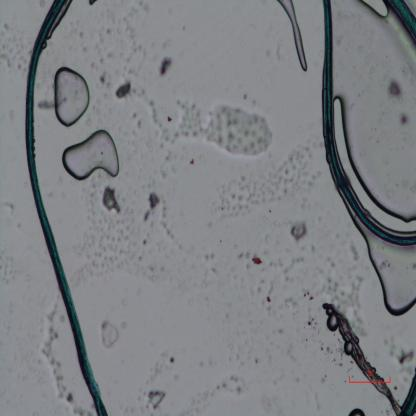Air bubble: (61, 130, 124, 181), (275, 1, 311, 72), (54, 64, 91, 128), (401, 385, 416, 415)
Background material: (138, 89, 274, 153), (73, 196, 171, 281), (220, 141, 313, 224), (37, 308, 80, 412), (318, 266, 362, 326), (96, 10, 116, 87), (304, 283, 326, 347), (0, 27, 28, 75), (384, 334, 415, 374), (0, 249, 30, 287), (250, 280, 282, 314), (145, 350, 178, 378), (100, 184, 123, 216), (210, 376, 243, 398), (96, 318, 119, 347), (142, 187, 161, 222), (143, 385, 166, 413), (282, 252, 304, 280), (197, 253, 220, 278), (235, 254, 263, 270), (388, 76, 404, 99), (116, 80, 132, 102), (293, 220, 308, 242), (160, 51, 172, 78), (36, 99, 56, 112), (399, 112, 410, 128), (186, 156, 196, 166)
Cotton: (322, 298, 404, 414)
Microfibre: (25, 1, 110, 415), (320, 0, 416, 247), (387, 1, 416, 41)
